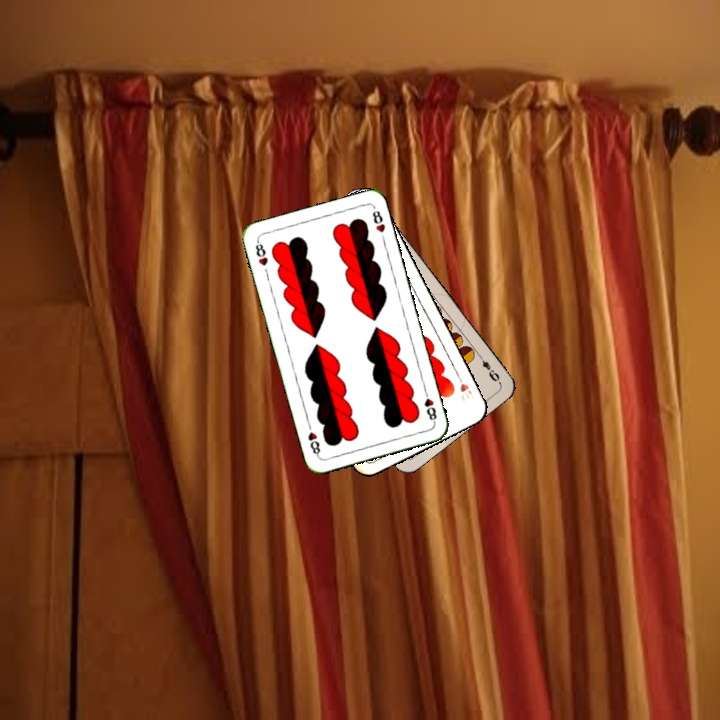E9: (474, 350, 502, 385)
H10: (452, 369, 477, 405)
H8: (420, 386, 439, 425), (251, 237, 270, 269)
